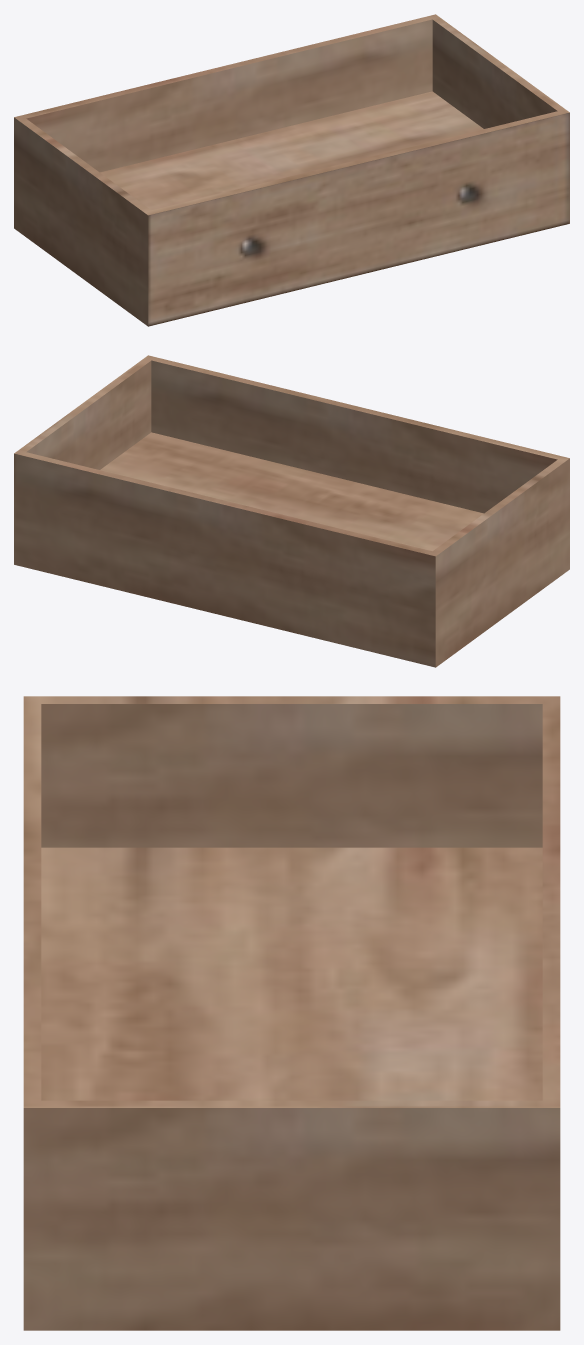
Rendered from Chest_drawers_06_006-col.glb.
3 renders of one model, top to bottom at view 1: azimuth 30°, elevation 25°; view 2: azimuth 150°, elevation 25°; view 3: azimuth 270°, elevation 25°, orthographic. The views are drawn at different scales.
Visible parts, largest first — view 1: Chest_drawers_06.006-col; view 2: Chest_drawers_06.006-col; view 3: Chest_drawers_06.006-col.
Part boxes in pixels (x1,y1,x2,y2): Chest_drawers_06.006-col: (14, 14, 569, 326); Chest_drawers_06.006-col: (14, 355, 569, 667); Chest_drawers_06.006-col: (23, 696, 560, 1330).
Bounding box in the file's own units: 0.7892 × 0.1988 × 0.4348.
1 material, 1 textured.
